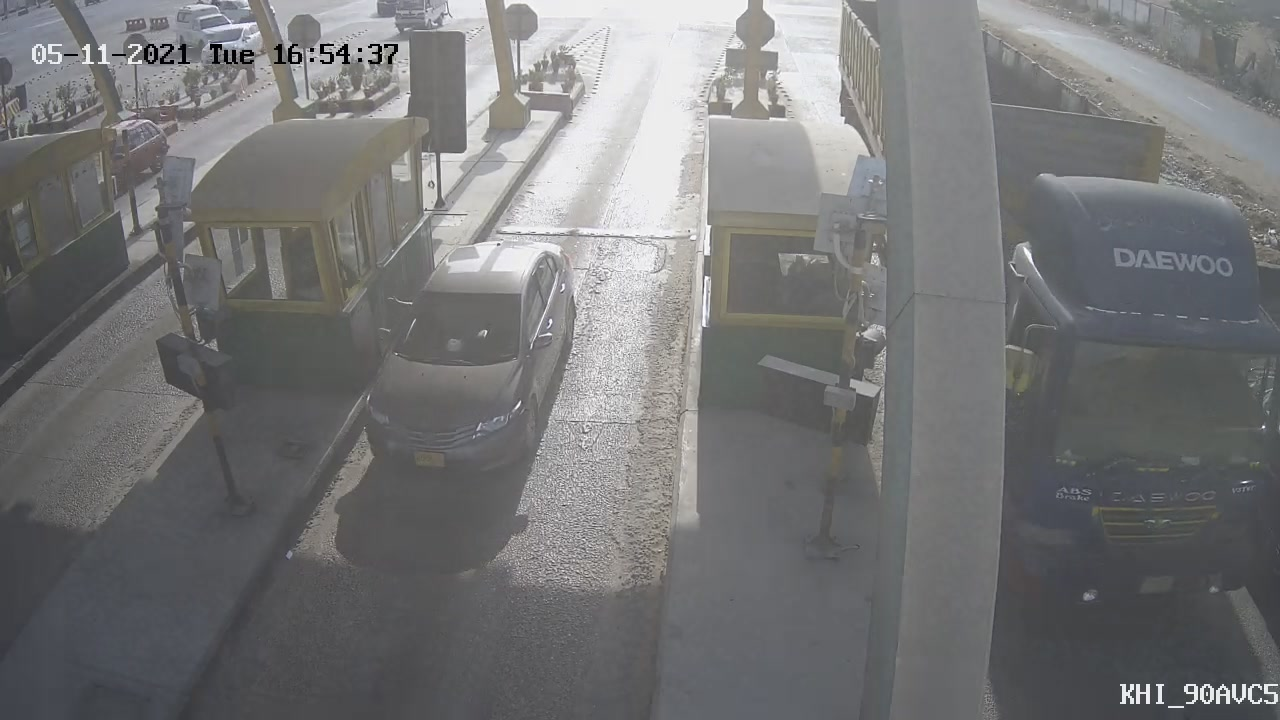F1: (343, 221, 595, 504)
